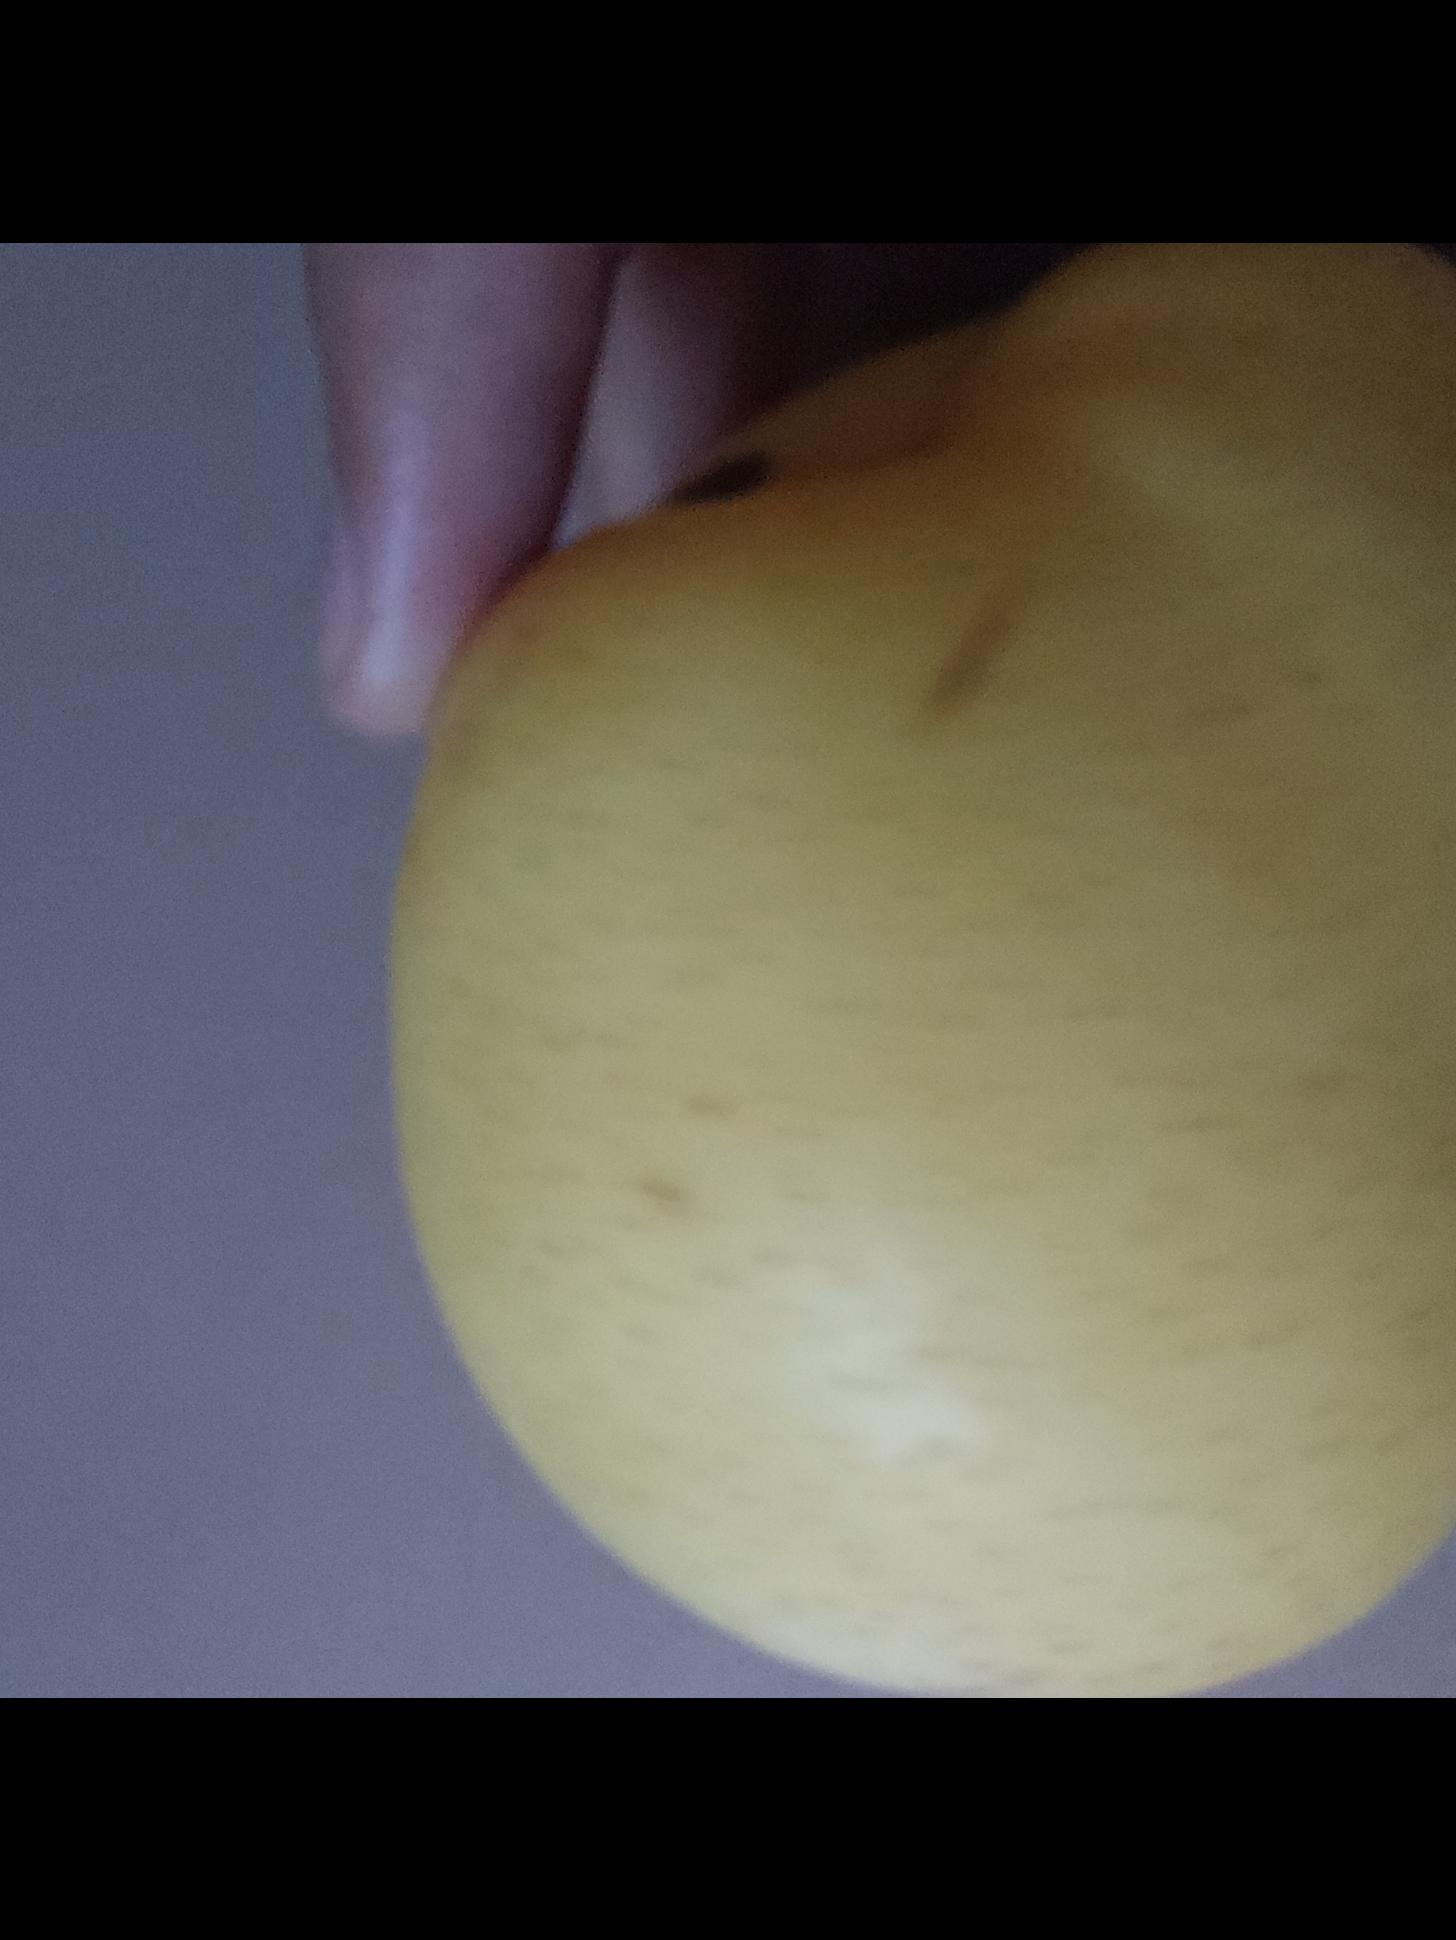Good Pear: (372, 242, 1456, 1698)
